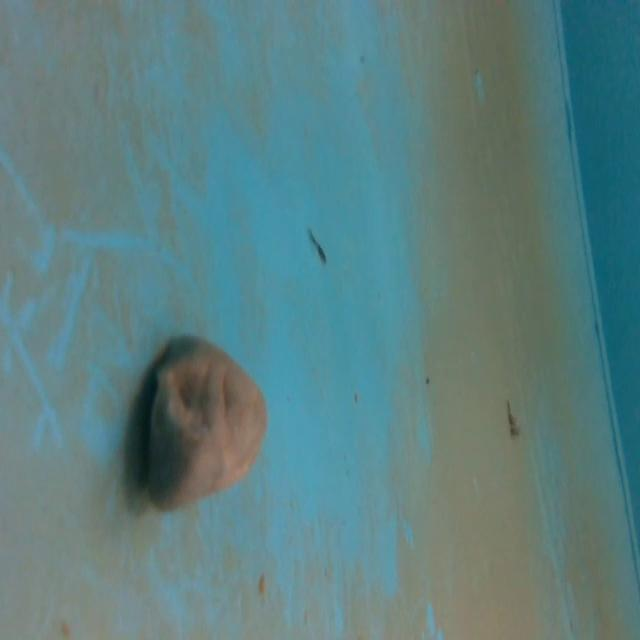rock: (135, 332, 275, 520)
